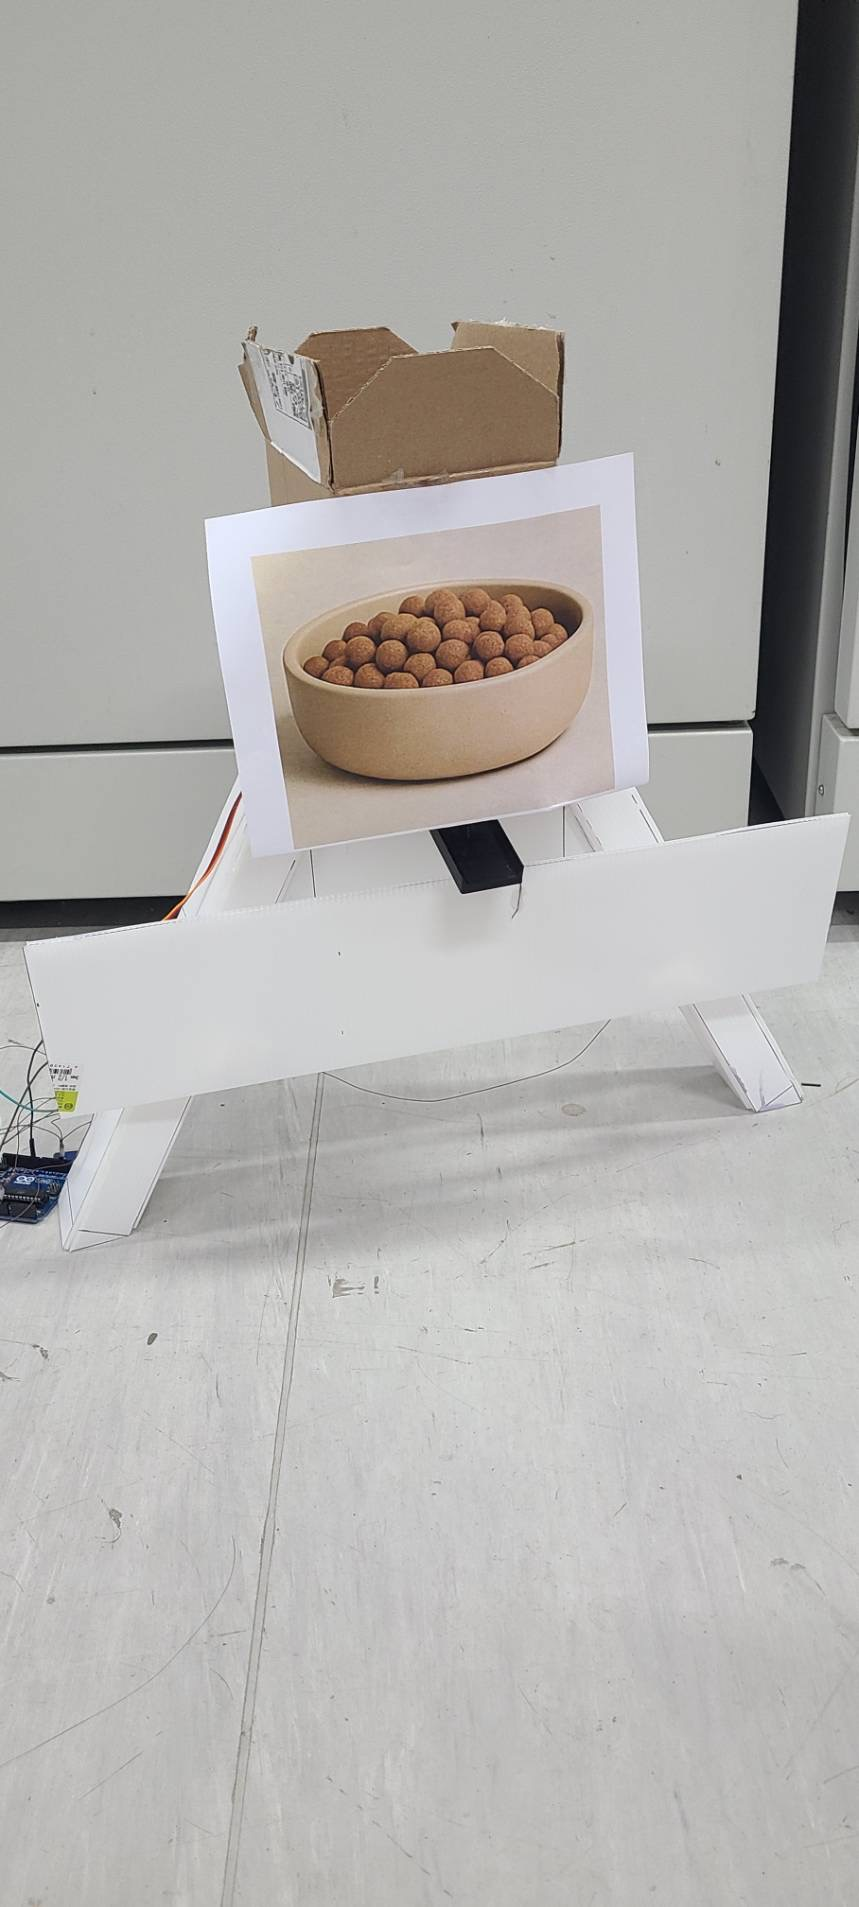machine: (286, 590, 599, 766)
